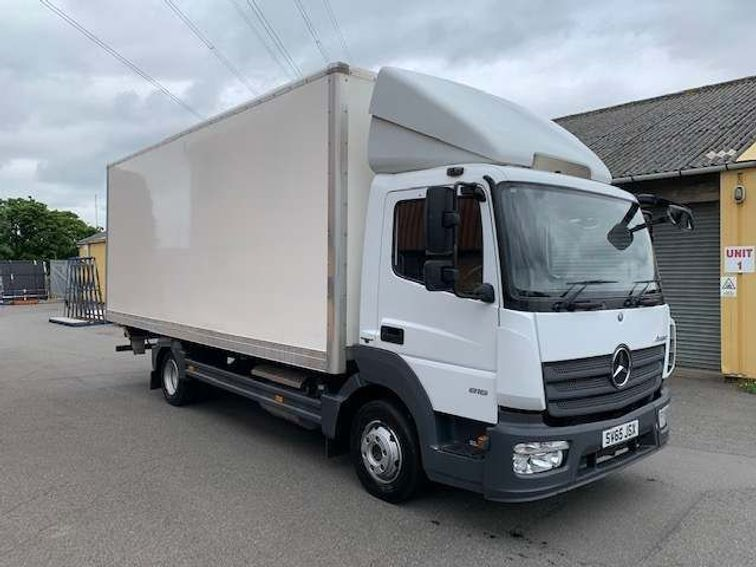Semi: (103, 61, 676, 506)
